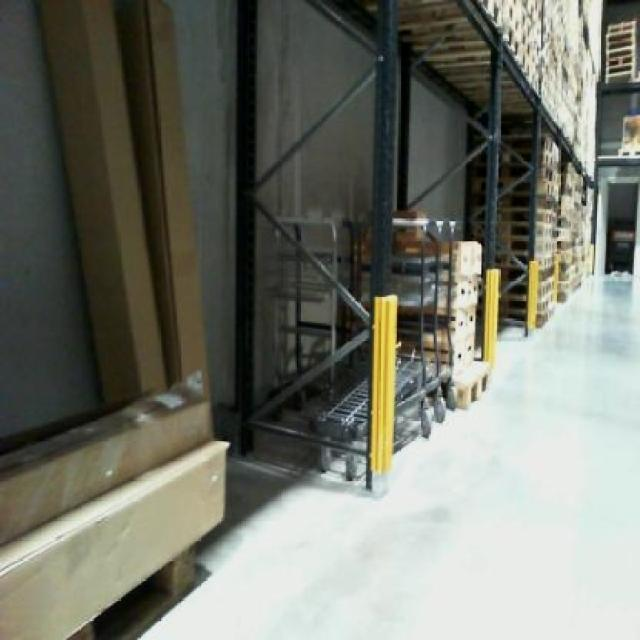pallets: (246, 200, 486, 489), (0, 374, 225, 637)
